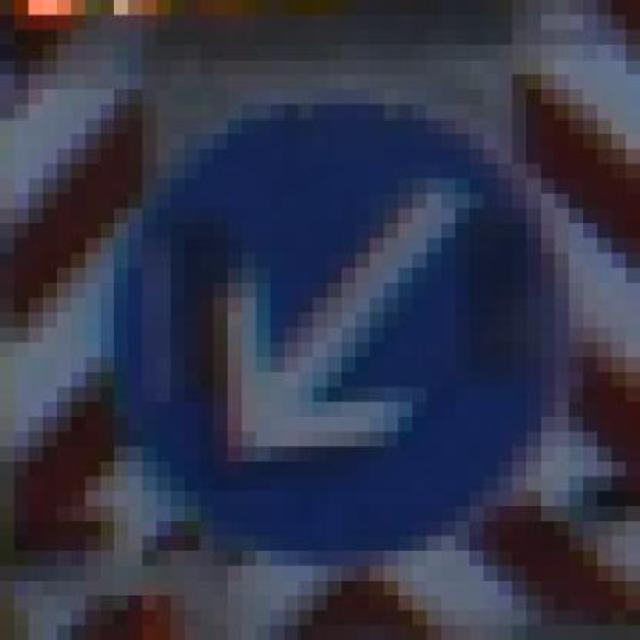Keep-Left: (85, 104, 598, 565)
